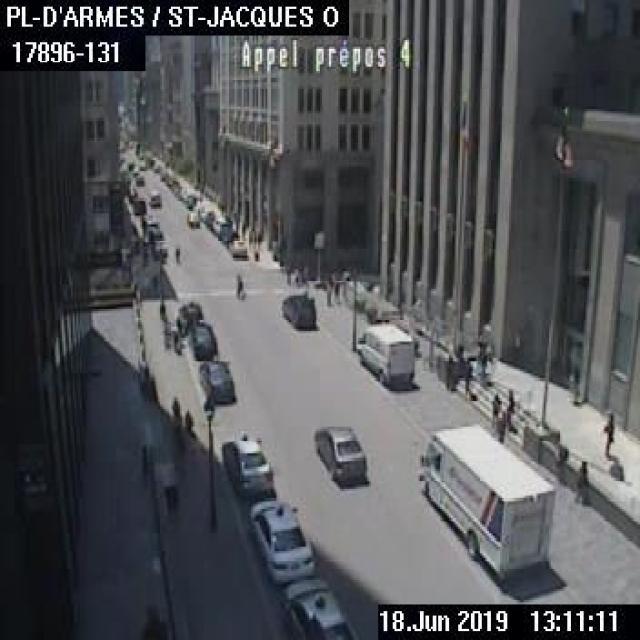pedestrian: (156, 456, 176, 511), (572, 456, 589, 502), (602, 411, 616, 458), (443, 354, 455, 389), (494, 406, 506, 440), (460, 356, 471, 391), (477, 342, 488, 376), (490, 391, 500, 425), (169, 393, 178, 429), (505, 388, 513, 428), (234, 271, 243, 298), (169, 323, 177, 353), (324, 280, 330, 304), (157, 300, 164, 320), (332, 280, 338, 301), (172, 244, 178, 262), (250, 228, 256, 246), (255, 230, 260, 247)
vehicle: (415, 420, 554, 570), (246, 495, 314, 583), (277, 578, 357, 638), (354, 320, 412, 384), (220, 429, 272, 494), (313, 424, 365, 480), (197, 359, 233, 400), (280, 293, 314, 328), (186, 322, 216, 358), (176, 299, 202, 332), (227, 238, 246, 256), (144, 214, 158, 236), (182, 406, 192, 435), (218, 221, 232, 240), (185, 209, 199, 227), (131, 195, 145, 213), (209, 216, 224, 232), (148, 189, 160, 205), (134, 172, 143, 184)
